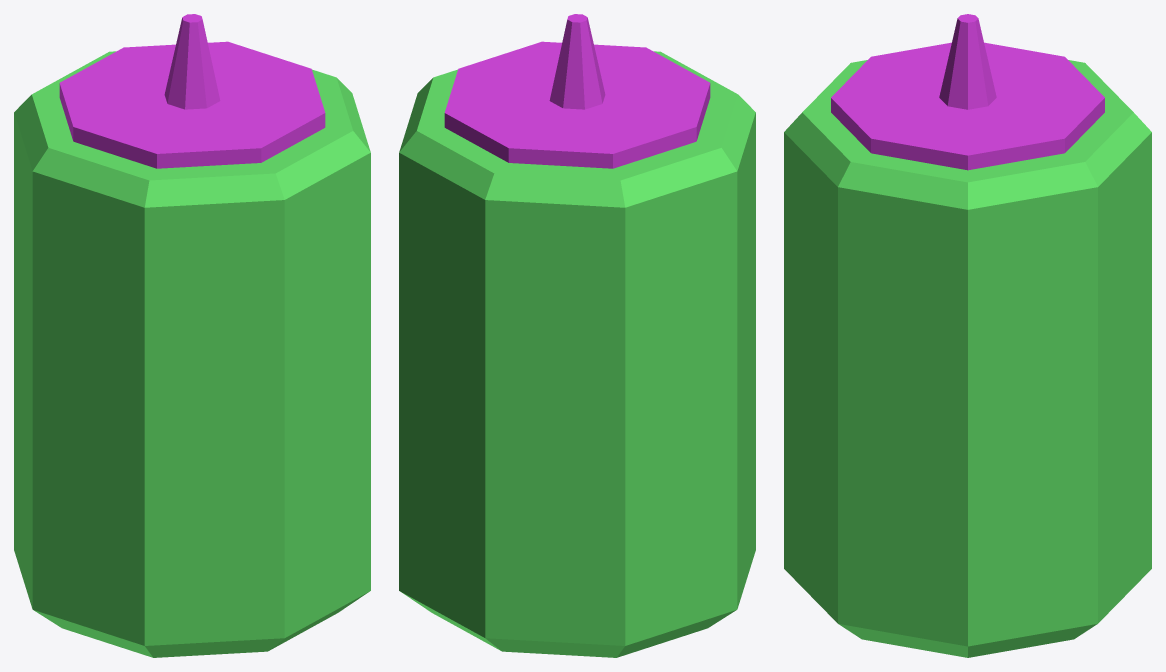
Rendered from Bottle_Sauce_01.fbx.
The picture shows the model from 3 angles, left to right: view 1: azimuth 30°, elevation 25°; view 2: azimuth 150°, elevation 25°; view 3: azimuth 270°, elevation 25°; orthographic projection.
Visible parts, largest first — view 1: Bottle_Sauce_01; view 2: Bottle_Sauce_01; view 3: Bottle_Sauce_01.
Boxes of the visible parts, x1,y1,x2,y2 form: Bottle_Sauce_01: (14,14,370,657); Bottle_Sauce_01: (399,14,755,657); Bottle_Sauce_01: (784,14,1151,657).
Bounding box in the file's own units: 12.19 × 21.06 × 12.19.
